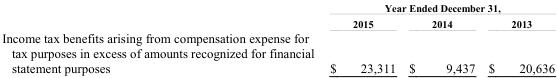table: (1, 1, 554, 74)
table column: (1, 1, 321, 74), (321, 1, 401, 74), (401, 1, 481, 74), (481, 1, 554, 74)
table column header: (1, 1, 554, 29)
table row: (1, 29, 554, 74), (1, 1, 554, 15), (1, 15, 554, 29)
table spanning cell: (321, 1, 554, 15)
